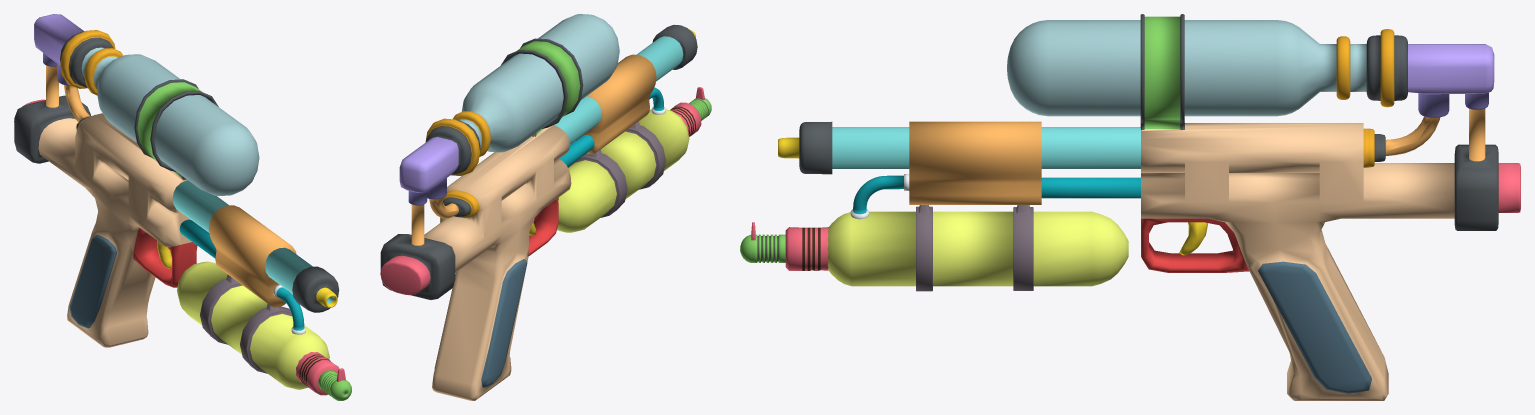
The model's file is Watergun19.fbx.
The picture shows the model from 3 angles, left to right: view 1: azimuth 30°, elevation 25°; view 2: azimuth 150°, elevation 25°; view 3: azimuth 270°, elevation 25°; orthographic projection. The views are drawn at different scales.
Parts seen in each view (by area): view 1: Watergun19; view 2: Watergun19; view 3: Watergun19.
Part boxes in pixels (x1,y1,x2,y2): Watergun19: [14, 14, 351, 400]; Watergun19: [380, 14, 711, 400]; Watergun19: [740, 14, 1520, 400].
Size of the model in its own units: 0.0551 by 0.2188 by 0.419.
